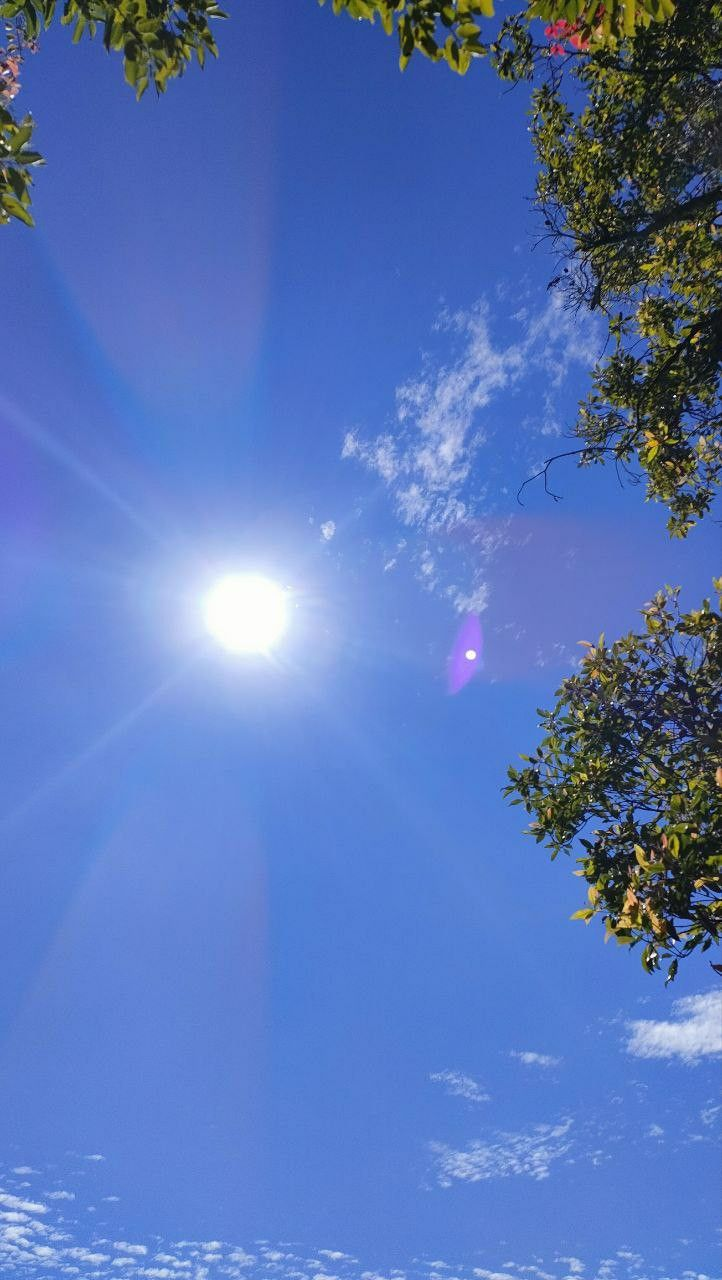sun: (154, 541, 316, 694)
